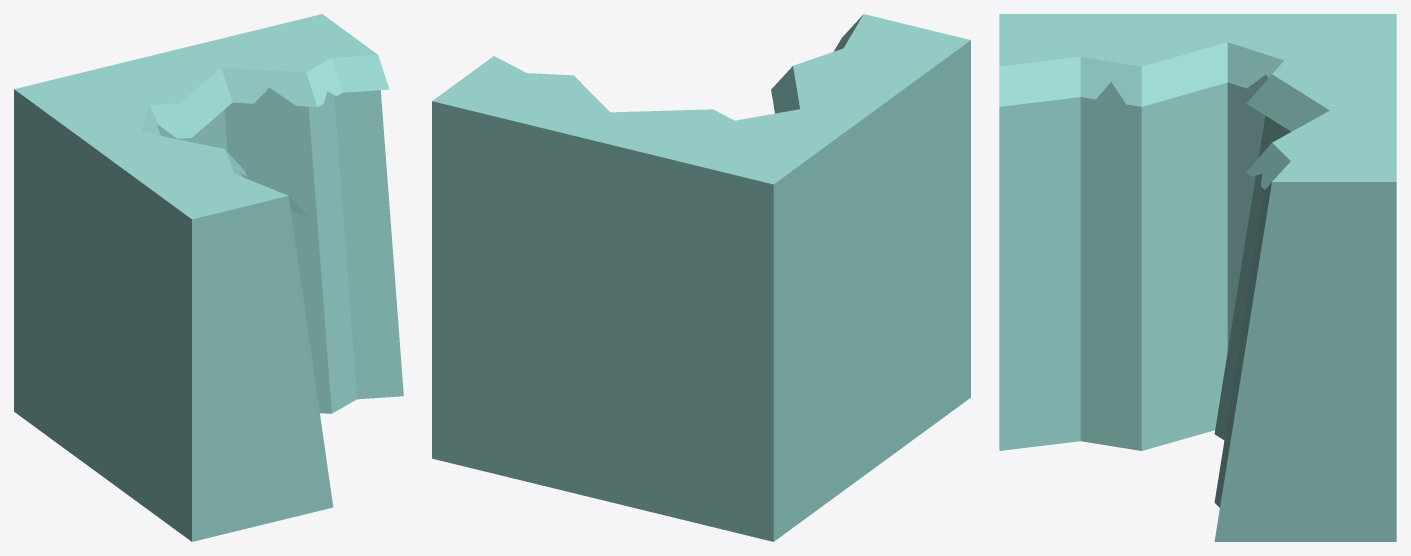
Rendered from cliffBrown_cornerInnerTop.fbx.
The picture shows the model from 3 angles, left to right: view 1: azimuth 30°, elevation 25°; view 2: azimuth 150°, elevation 25°; view 3: azimuth 270°, elevation 25°; orthographic projection. The views are drawn at different scales.
Parts seen in each view (by area): view 1: cliffBrown_cornerInnerTop; view 2: cliffBrown_cornerInnerTop; view 3: cliffBrown_cornerInnerTop.
Boxes of the visible parts, box(x1,y1,x2,y2) form: cliffBrown_cornerInnerTop: box(14, 14, 403, 541); cliffBrown_cornerInnerTop: box(432, 14, 970, 541); cliffBrown_cornerInnerTop: box(999, 14, 1396, 541).
Size of the model in its own units: 300 by 300 by 300.
